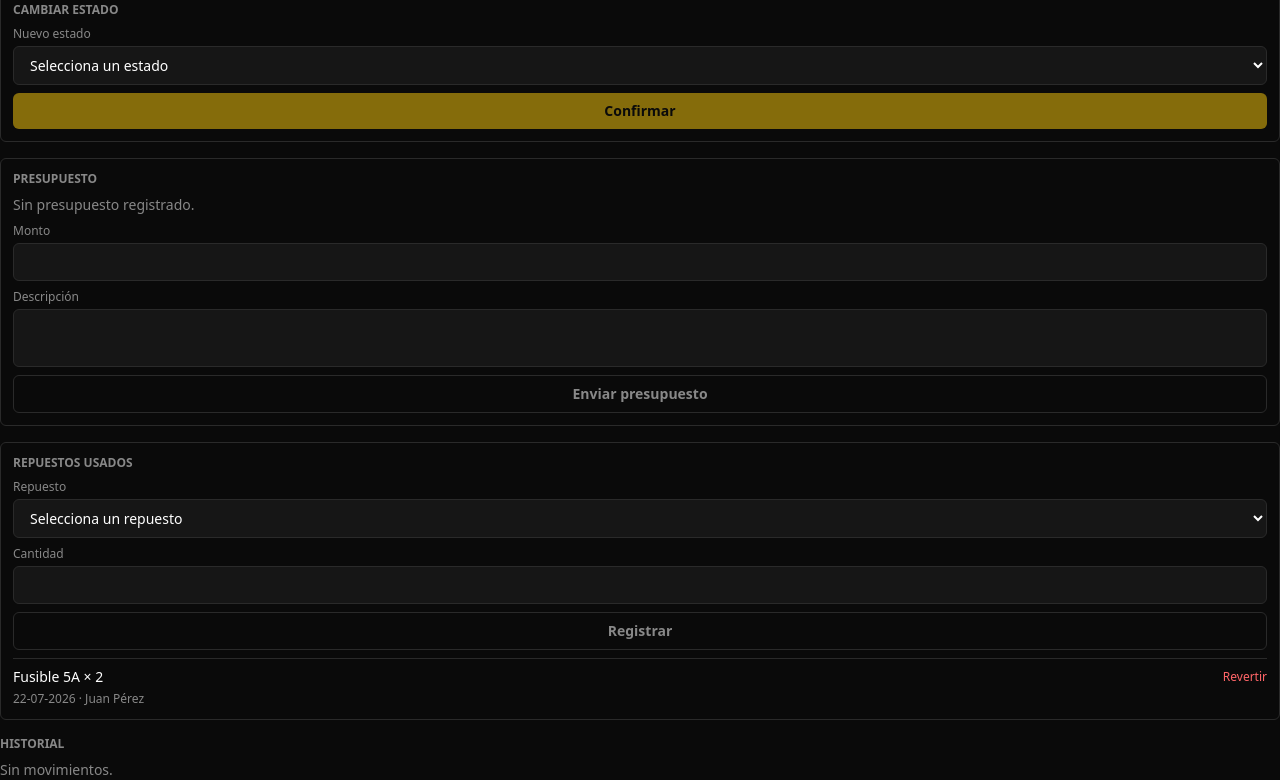
EquipmentDetailPage › revertir un consumo ya revertido muestra el mensaje de error
(page scrolled)
Step 1. Click the button "Revertir" → {"x": 1245, "y": 677}, box [1223,669,1267,685]
(page scrolled)
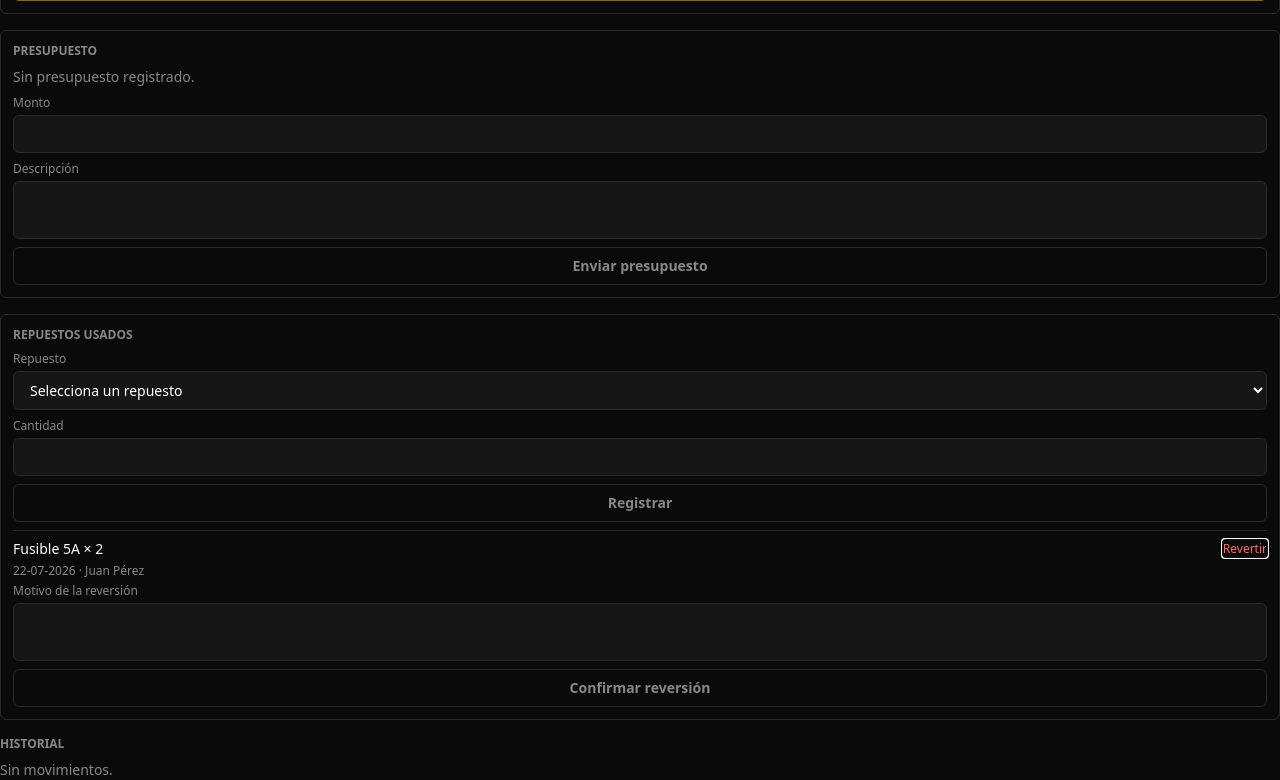
Step 2. Type "No se usó" into the text box labelled "Motivo de la reversión" → {"x": 640, "y": 632}, box [13,603,1267,661]
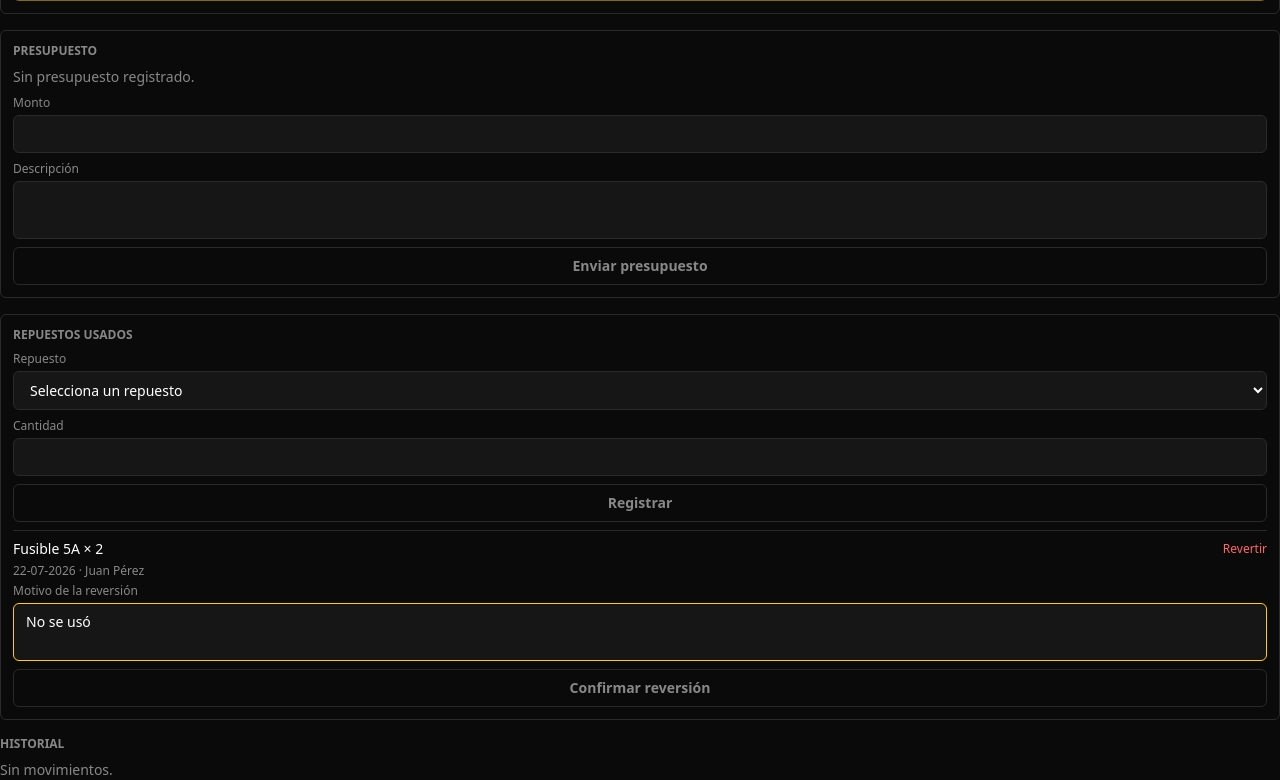
Step 3. Click the button "Confirmar reversión" → {"x": 640, "y": 688}, box [13,669,1267,707]
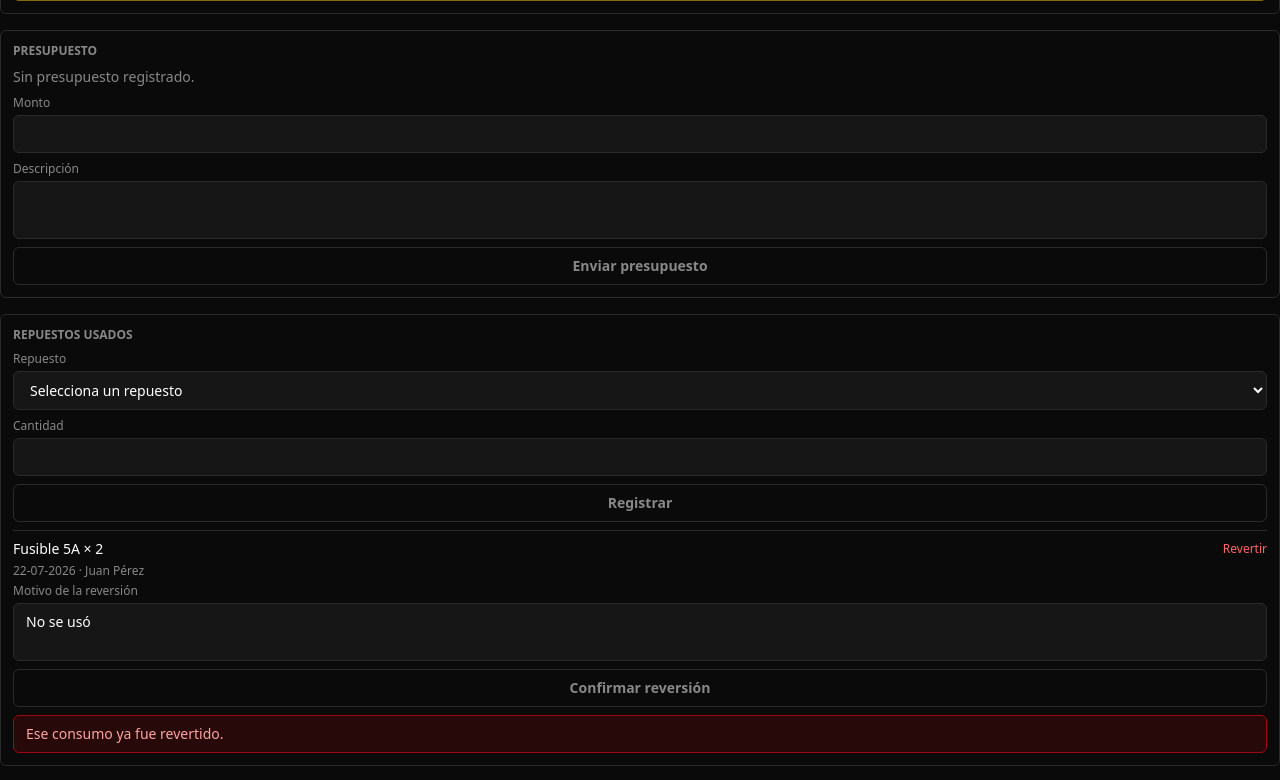
Result: the text "Ese consumo ya fue revertido." is shown at [13,715,1267,753]
